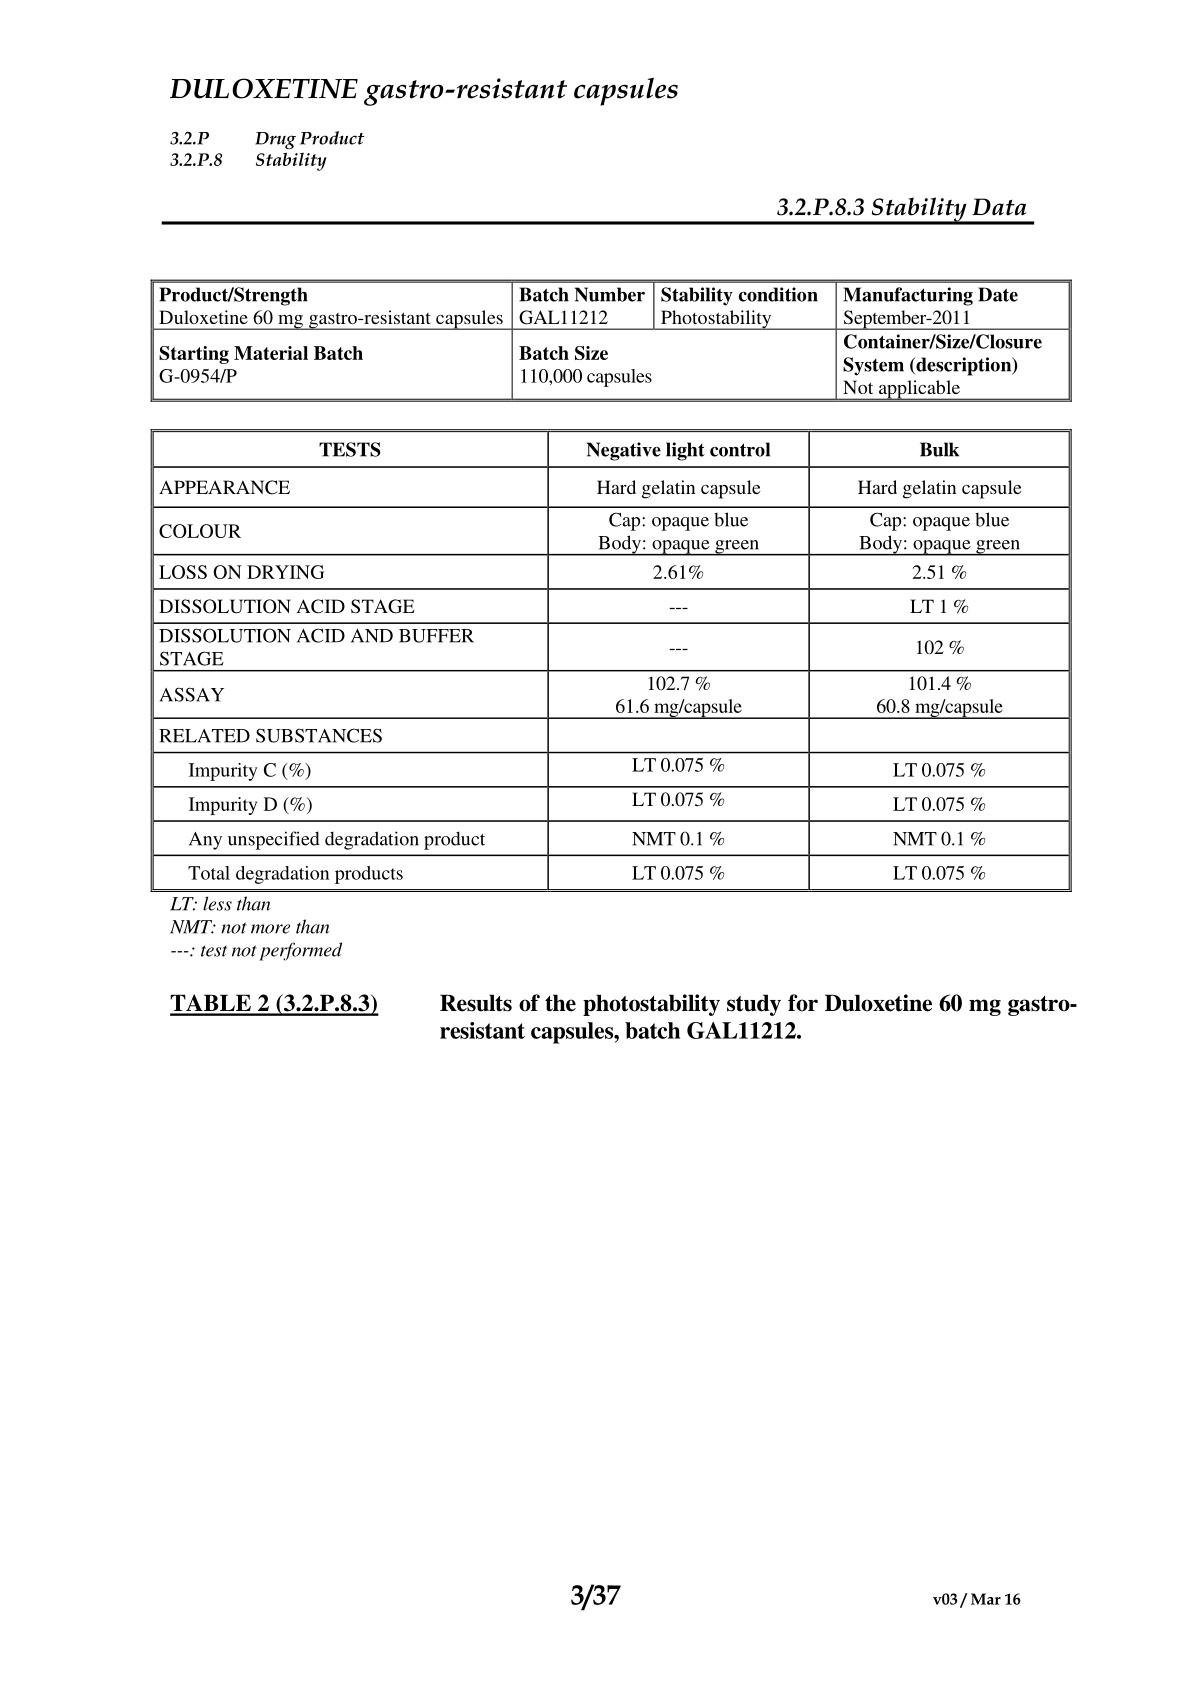full_lined: (150, 429, 1072, 893)
merged_cells: (150, 280, 1072, 403)
